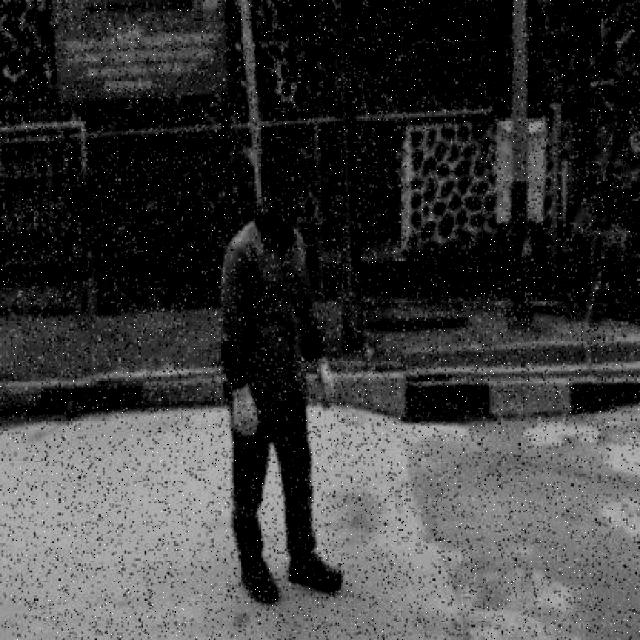Boots: (284, 543, 348, 597), (236, 552, 286, 610)
Gloves: (226, 378, 262, 446), (307, 355, 336, 413)
